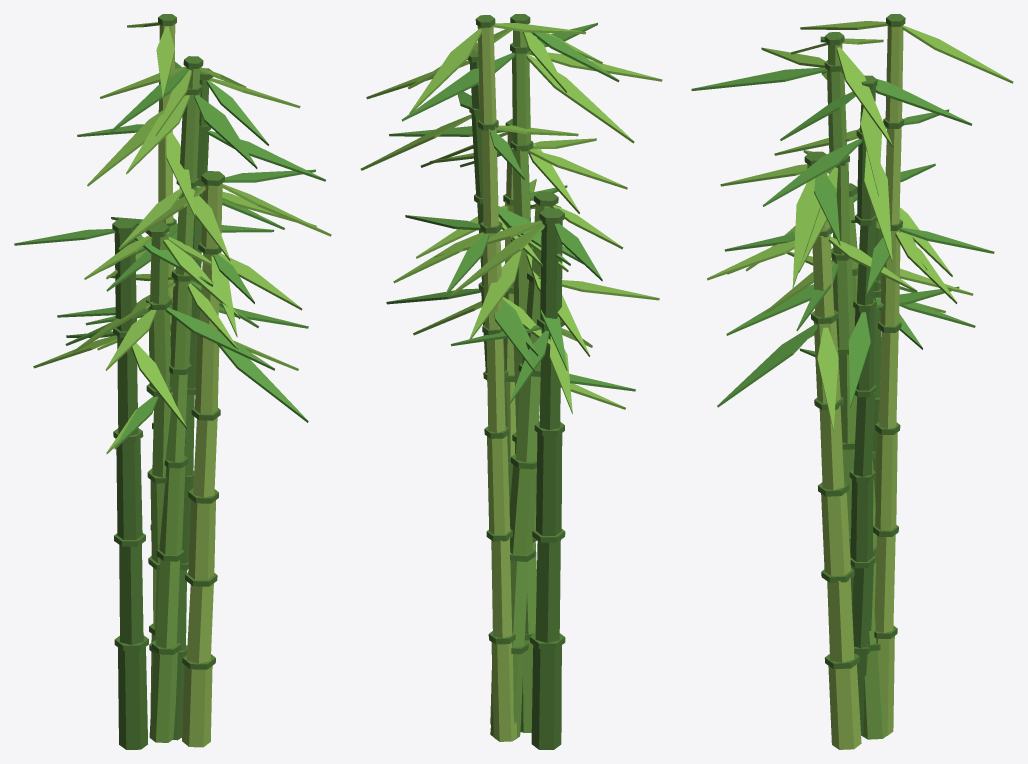
The model's file is Bamboo1.fbx.
3 renders of one model, left to right at view 1: azimuth 30°, elevation 25°; view 2: azimuth 150°, elevation 25°; view 3: azimuth 270°, elevation 25°, orthographic. The views are drawn at different scales.
Visible parts, largest first — view 1: Bamboo1_bamboo_dk, Bamboo1_leaf_lt, Bamboo1_bamboo, Bamboo1_bamboo_lt, Bamboo1_leaf; view 2: Bamboo1_bamboo_dk, Bamboo1_leaf_lt, Bamboo1_bamboo_lt, Bamboo1_bamboo, Bamboo1_leaf; view 3: Bamboo1_bamboo_lt, Bamboo1_leaf_lt, Bamboo1_bamboo_dk, Bamboo1_leaf, Bamboo1_bamboo.
Part boxes in pixels (x1,y1,x2,y2): Bamboo1_bamboo_dk: [112, 14, 224, 749]; Bamboo1_leaf_lt: [33, 22, 331, 454]; Bamboo1_bamboo: [148, 67, 200, 742]; Bamboo1_bamboo_lt: [150, 24, 222, 747]; Bamboo1_leaf: [14, 61, 325, 449]; Bamboo1_bamboo_dk: [467, 14, 565, 749]; Bamboo1_leaf_lt: [360, 23, 662, 414]; Bamboo1_bamboo_lt: [477, 25, 517, 741]; Bamboo1_bamboo: [490, 30, 550, 741]; Bamboo1_leaf: [386, 22, 635, 404]; Bamboo1_bamboo_lt: [807, 25, 903, 749]; Bamboo1_leaf_lt: [707, 21, 1013, 430]; Bamboo1_bamboo_dk: [804, 14, 905, 734]; Bamboo1_leaf: [691, 36, 994, 407]; Bamboo1_bamboo: [827, 42, 886, 739].
Size of the model in its own units: 5.99 by 15.68 by 6.32.
